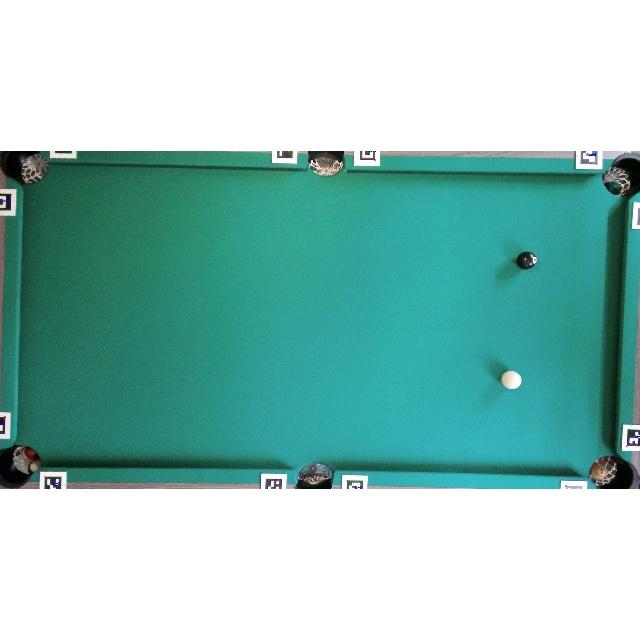cue ball: (500, 369, 522, 390)
other: (516, 251, 538, 270)
